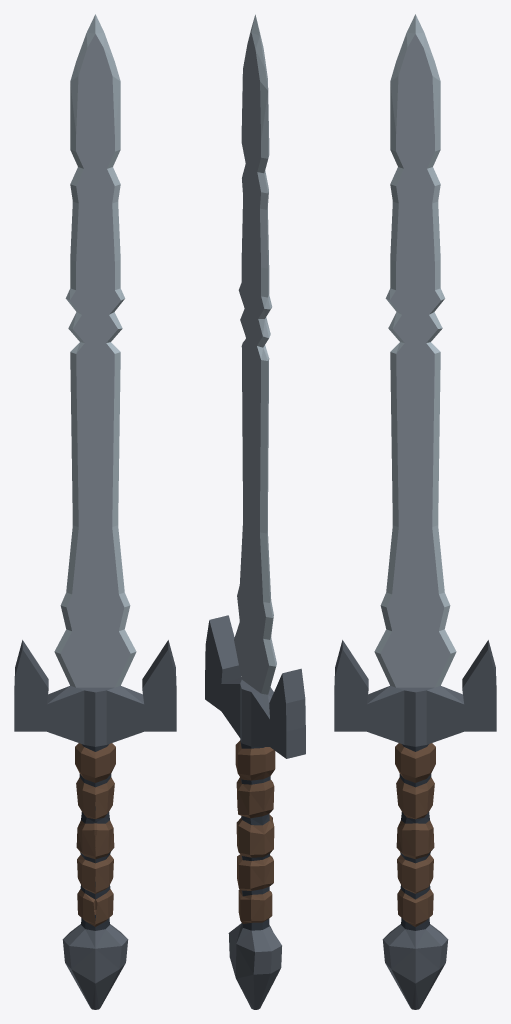
The model's file is greatsword.dae.
3 views of the same model, side by side, from view 1: azimuth 90°, elevation 25°; view 2: azimuth 210°, elevation 25°; view 3: azimuth 270°, elevation 25° (orthographic).
Parts seen in each view (by area): view 1: greatsword; view 2: greatsword; view 3: greatsword.
Part boxes in pixels (left/top/right/bottom): greatsword: left=14, top=14, right=176, bottom=1009; greatsword: left=205, top=14, right=305, bottom=1009; greatsword: left=334, top=14, right=496, bottom=1009.
Size of the model in its own units: 0.0556 by 0.2002 by 1.35.
